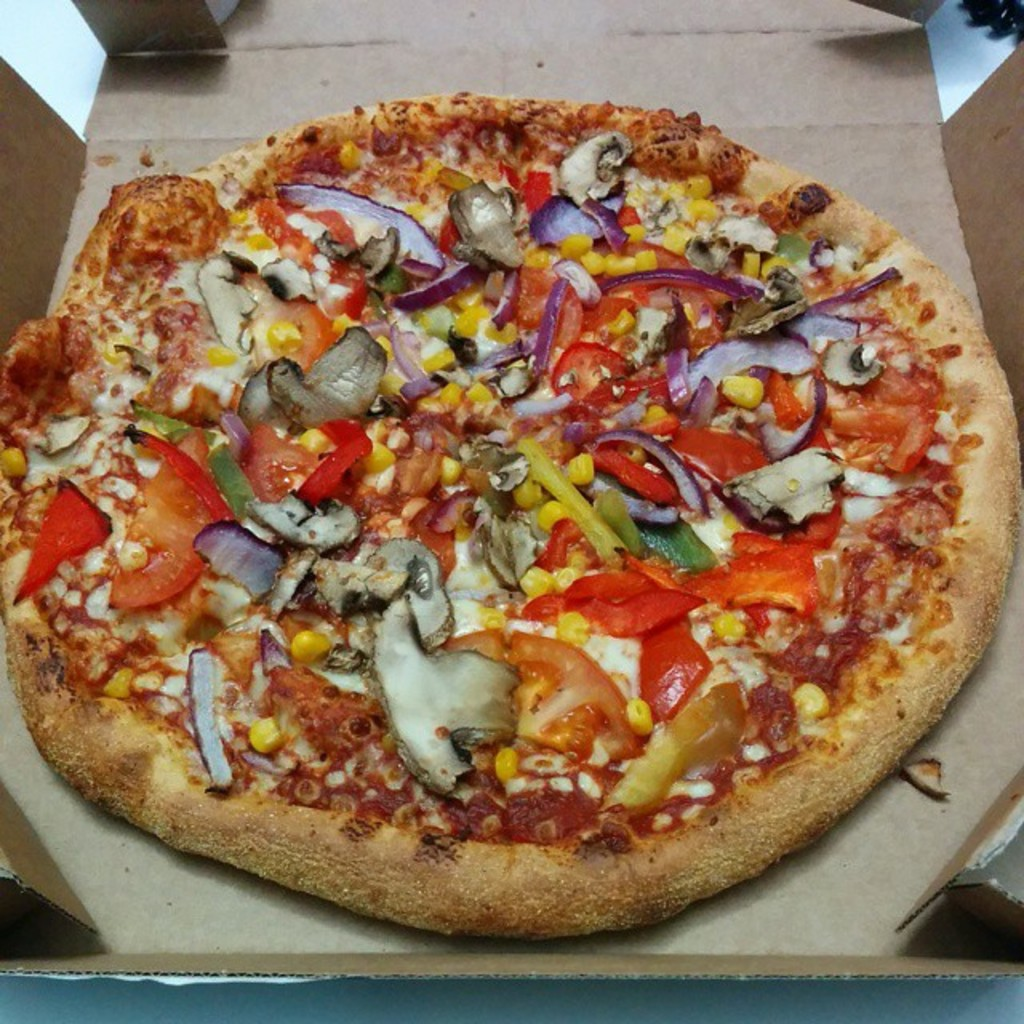Pizza: (0, 96, 1012, 952)
